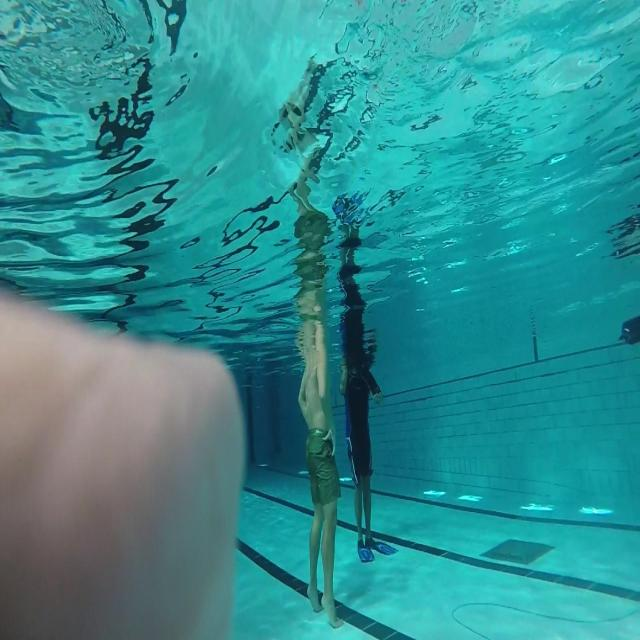human: (337, 226, 382, 562), (297, 316, 344, 629)
